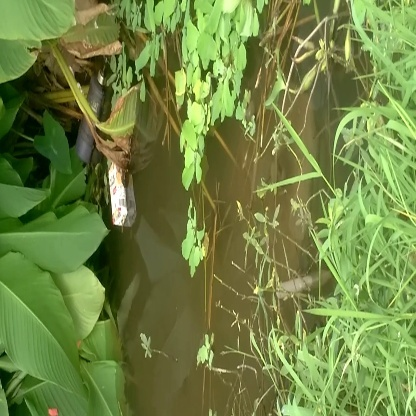bottle: (72, 64, 107, 163)
milk-box: (104, 158, 142, 229)
